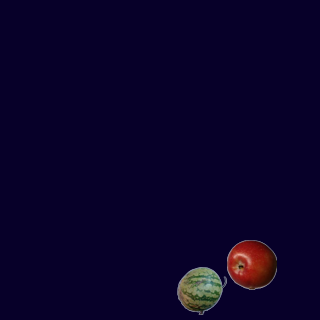Apple Braeburn: (226, 239, 276, 289)
Watermelon: (176, 265, 226, 315)
